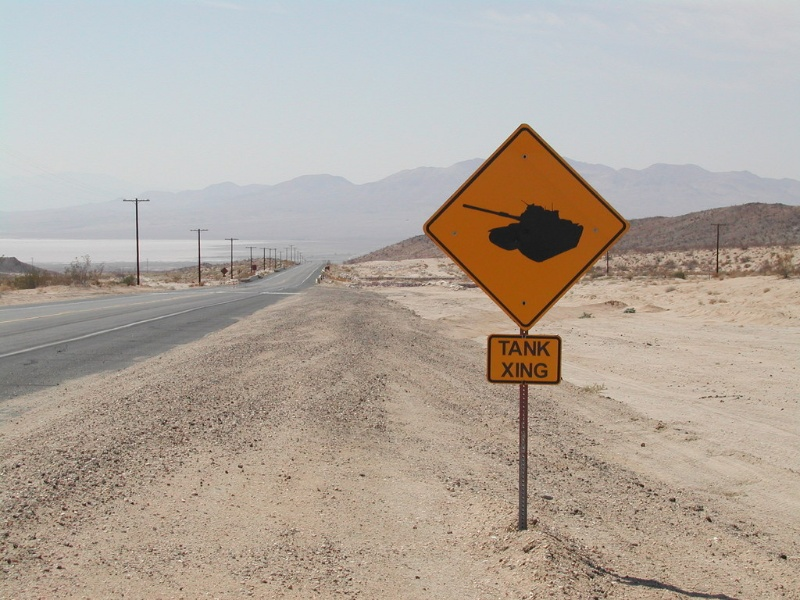tanks_crossing: (420, 114, 636, 336)
